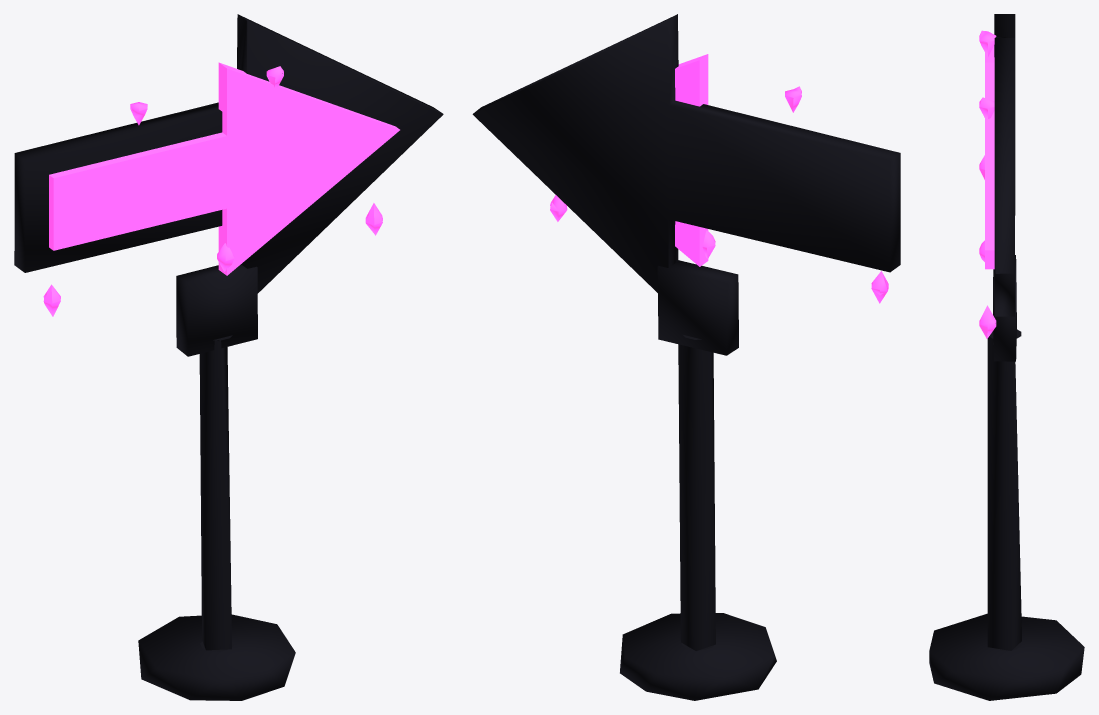
The model's file is lod_neon_arrow_sign.glb.
The picture shows the model from 3 angles, left to right: view 1: azimuth 30°, elevation 25°; view 2: azimuth 150°, elevation 25°; view 3: azimuth 270°, elevation 25°; orthographic projection.
Parts seen in each view (by area): view 1: neon_arrow_sign; view 2: neon_arrow_sign; view 3: neon_arrow_sign.
Boxes of the visible parts, box(x1,y1,x2,y2) form: neon_arrow_sign: box(14, 14, 443, 700); neon_arrow_sign: box(472, 14, 900, 700); neon_arrow_sign: box(929, 14, 1084, 700).
Bounding box in the file's own units: 1.69 × 2.49 × 0.5448.
